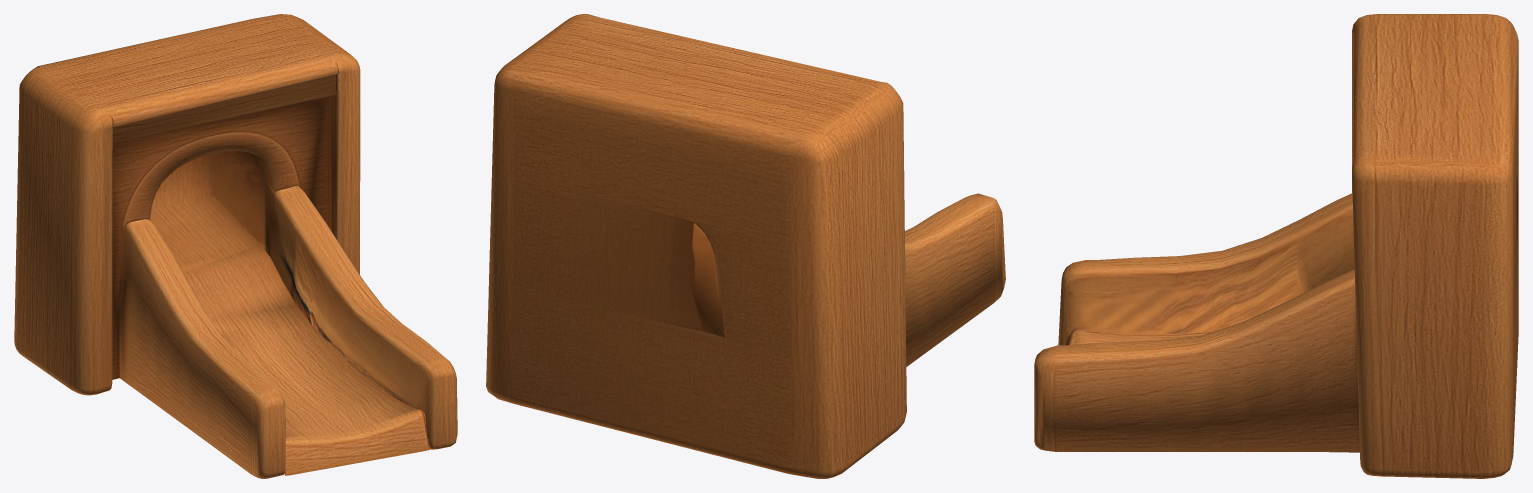
Rendered from launcher.glb.
3 renders of one model, left to right at view 1: azimuth 30°, elevation 25°; view 2: azimuth 150°, elevation 25°; view 3: azimuth 270°, elevation 25°, orthographic. The views are drawn at different scales.
Visible parts, largest first — view 1: tripo_node_5e3c43a6-5806-463c-9ebd-34def4cc390b; view 2: tripo_node_5e3c43a6-5806-463c-9ebd-34def4cc390b; view 3: tripo_node_5e3c43a6-5806-463c-9ebd-34def4cc390b.
Boxes of the visible parts, bbox=[...] form: tripo_node_5e3c43a6-5806-463c-9ebd-34def4cc390b: bbox=[14, 14, 457, 478]; tripo_node_5e3c43a6-5806-463c-9ebd-34def4cc390b: bbox=[486, 14, 1005, 478]; tripo_node_5e3c43a6-5806-463c-9ebd-34def4cc390b: bbox=[1034, 14, 1518, 478].
Bounding box in the file's own units: 0.7974 × 0.7241 × 0.9995.
Materials: 1 (1 with a texture image).
